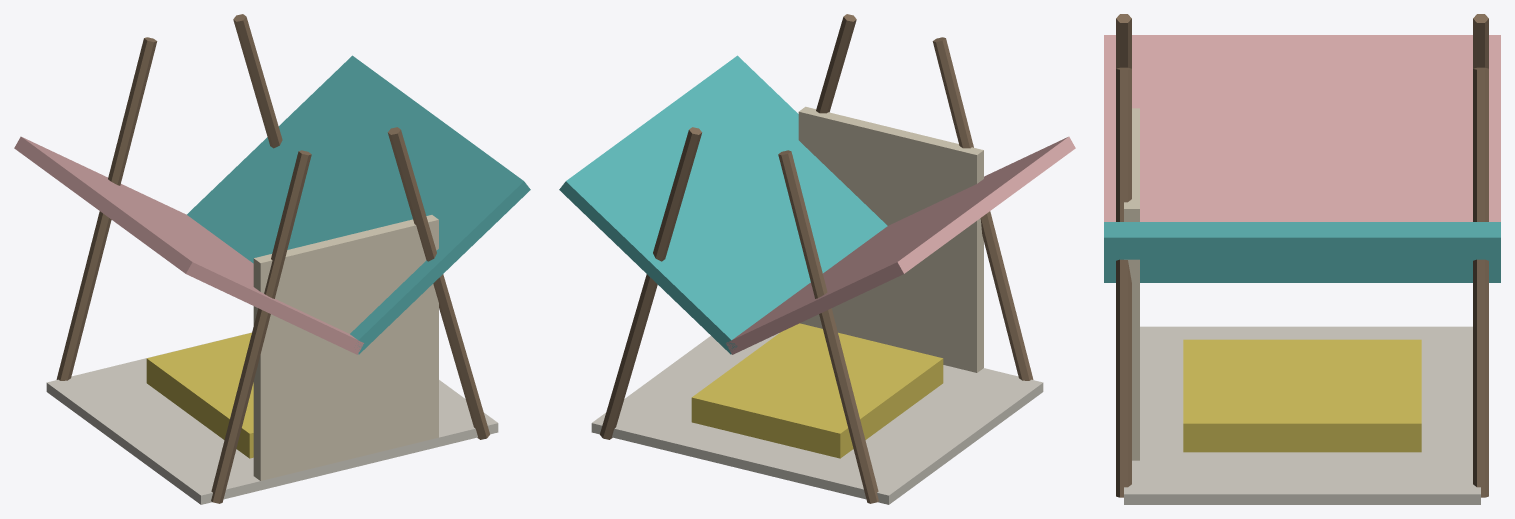
Rendered from kids_cabana.glb.
3 renders of one model, left to right at view 1: azimuth 30°, elevation 25°; view 2: azimuth 150°, elevation 25°; view 3: azimuth 270°, elevation 25°, orthographic. The views are drawn at different scales.
Visible parts, largest first — view 1: KIDS_CABANA_v01; view 2: KIDS_CABANA_v01; view 3: KIDS_CABANA_v01.
Part boxes in pixels (bbox=[...]): KIDS_CABANA_v01: bbox=[14, 14, 530, 504]; KIDS_CABANA_v01: bbox=[559, 14, 1075, 504]; KIDS_CABANA_v01: bbox=[1104, 14, 1500, 504].
Bounding box in the file's own units: 1.16 × 1.06 × 1.
